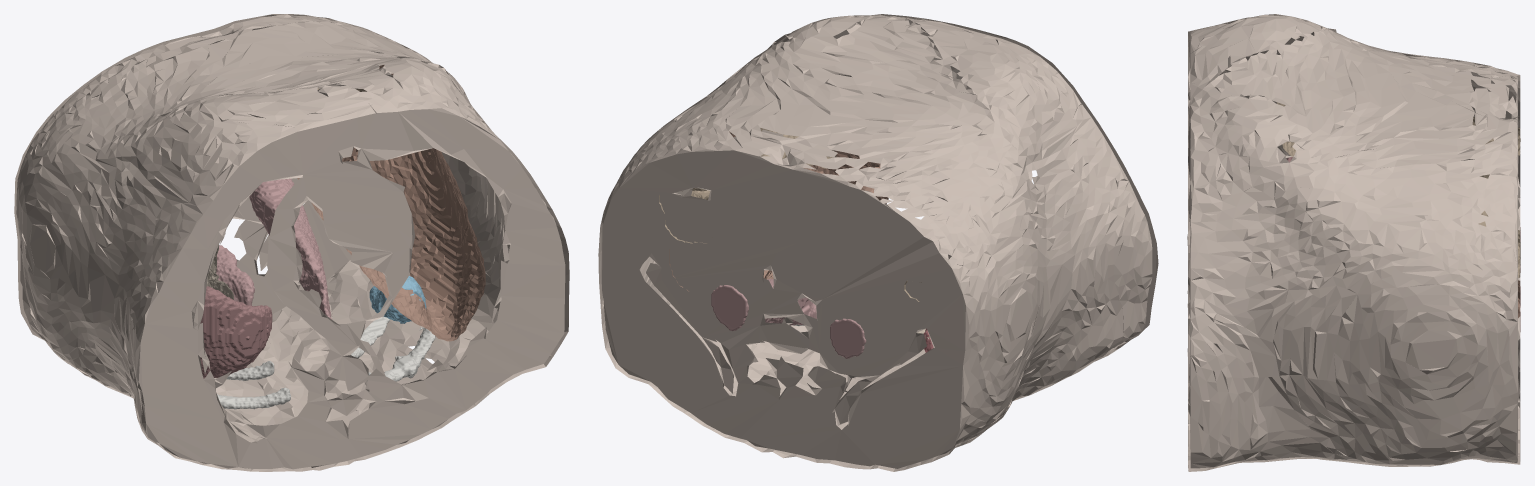
Rendered from reference-c.glb.
The picture shows the model from 3 angles, left to right: view 1: azimuth 30°, elevation 25°; view 2: azimuth 150°, elevation 25°; view 3: azimuth 270°, elevation 25°; orthographic projection. The views are drawn at different scales.
Parts seen in each view (by area): view 1: skin, liver, spleen, psoas, ribs, cyst; view 2: skin, psoas, liver; view 3: skin, colon.
Part boxes in pixels (<box>): skin: <box>14,14,569,471</box>; liver: <box>297,65,485,341</box>; spleen: <box>200,286,272,378</box>; psoas: <box>216,178,332,319</box>; ribs: <box>217,313,435,409</box>; cyst: <box>369,275,426,323</box>; skin: <box>598,14,1158,471</box>; psoas: <box>711,279,866,358</box>; liver: <box>669,131,888,291</box>; skin: <box>1187,14,1520,471</box>; colon: <box>1276,102,1520,277</box>.
Bounding box in the file's own units: 410 × 318 × 260.
